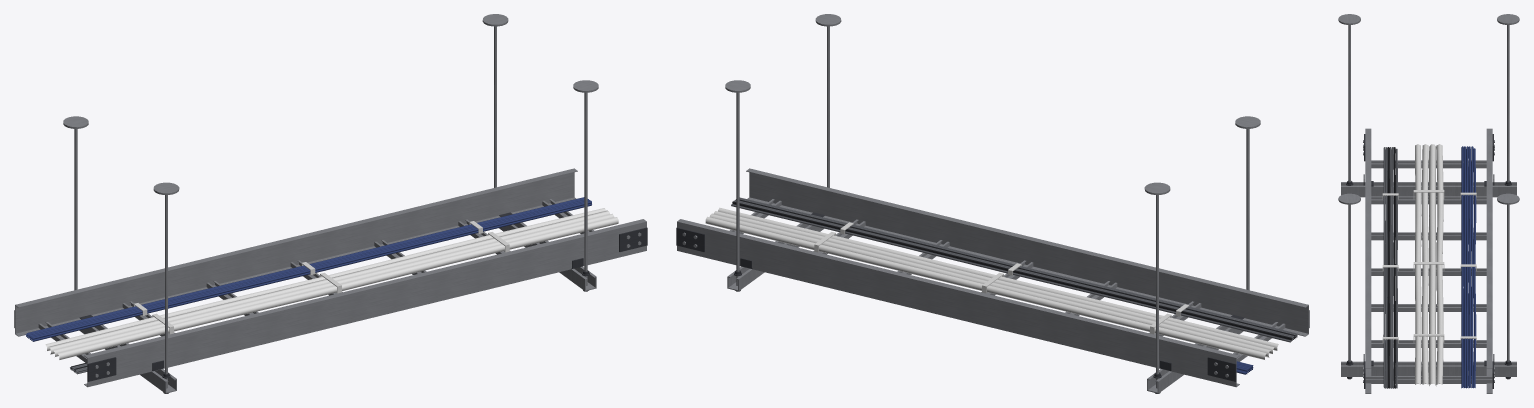
Rendered from cable_tray_run.glb.
The picture shows the model from 3 angles, left to right: view 1: azimuth 30°, elevation 25°; view 2: azimuth 150°, elevation 25°; view 3: azimuth 270°, elevation 25°; orthographic projection. The views are drawn at different scales.
Visible parts, largest first — view 1: tray_steel_brushed_0, power_rubber_0, fibre_plastic_indigo_0, hanger_2_steel_brushed_0, hanger_1_steel_brushed_0, tray_alloy_dark_1; view 2: tray_steel_brushed_0, power_rubber_0, copper_cable_grey_0, copper_plastic_dark_1, hanger_2_steel_brushed_0, hanger_1_steel_brushed_0, tray_alloy_dark_1; view 3: tray_steel_brushed_0, power_rubber_0, fibre_plastic_indigo_0, hanger_2_steel_brushed_0, hanger_1_steel_brushed_0, copper_cable_grey_0, copper_plastic_dark_1, tray_alloy_dark_1, fibre_rubber_1, copper_rubber_2, hanger_2_alloy_dark_1.
Part boxes in pixels (x1,y1,x2,y2): tray_steel_brushed_0: (15, 168, 646, 387); power_rubber_0: (45, 208, 618, 359); fibre_plastic_indigo_0: (25, 197, 591, 341); hanger_2_steel_brushed_0: (482, 14, 598, 291); hanger_1_steel_brushed_0: (63, 116, 179, 393); tray_alloy_dark_1: (14, 227, 647, 381); tray_steel_brushed_0: (677, 168, 1308, 387); power_rubber_0: (705, 207, 1278, 359); copper_cable_grey_0: (731, 197, 1297, 342); copper_plastic_dark_1: (732, 199, 1295, 341); hanger_2_steel_brushed_0: (725, 14, 841, 291); hanger_1_steel_brushed_0: (1144, 116, 1260, 393); tray_alloy_dark_1: (676, 227, 1309, 381); tray_steel_brushed_0: (1363, 128, 1494, 393); power_rubber_0: (1413, 144, 1444, 386); fibre_plastic_indigo_0: (1461, 146, 1476, 388); hanger_2_steel_brushed_0: (1338, 193, 1519, 376); hanger_1_steel_brushed_0: (1338, 14, 1519, 197); copper_cable_grey_0: (1383, 147, 1397, 388); copper_plastic_dark_1: (1387, 147, 1395, 388); tray_alloy_dark_1: (1364, 134, 1493, 388); fibre_rubber_1: (1460, 192, 1476, 342); copper_rubber_2: (1382, 193, 1398, 342); hanger_2_alloy_dark_1: (1346, 354, 1511, 379).
Size of what is drawn, in the model's own units: 2 by 0.7 by 0.64.
Materials: 6 (6 with a texture image).
